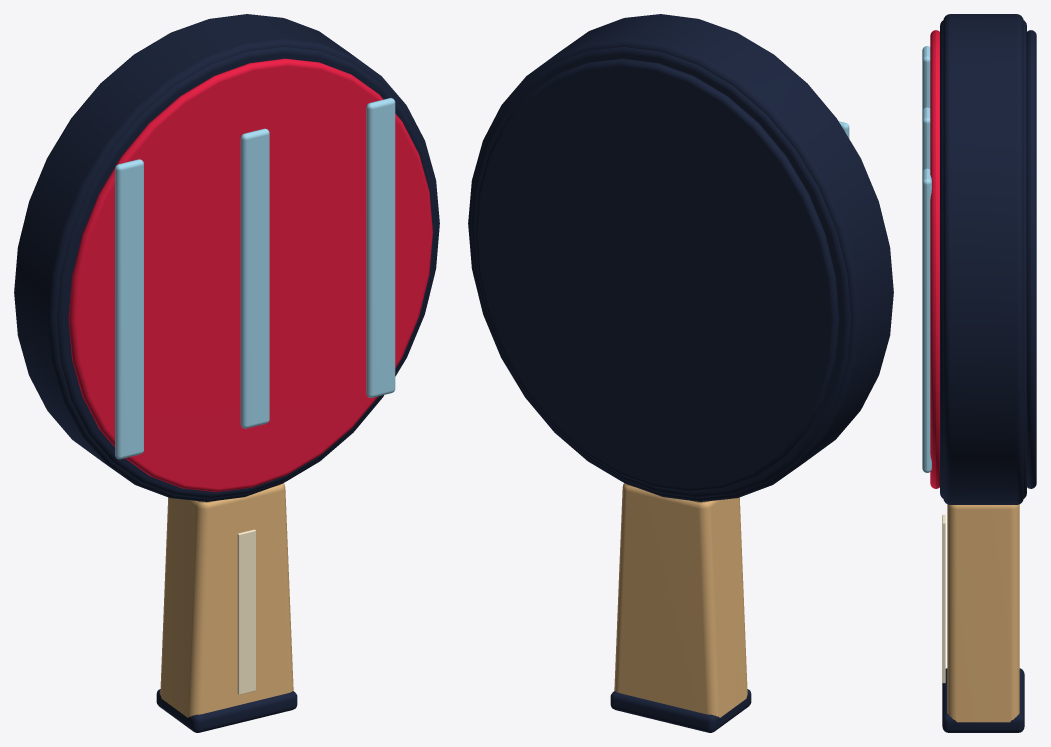
The model's file is Melee.glb.
3 views of the same model, side by side, from view 1: azimuth 30°, elevation 25°; view 2: azimuth 150°, elevation 25°; view 3: azimuth 270°, elevation 25° (orthographic).
Parts seen in each view (by area): view 1: FrontRubber, OuterRim, WoodHandle, RimLip, ImpactBand0, ImpactBand0.18, ImpactBand-0.18, HandleInlay, HandleButt; view 2: BackRubber, OuterRim, WoodHandle, RimLip, HandleButt; view 3: OuterRim, WoodHandle, BackRubber, FrontRubber, RimLip, ImpactBand0.18, HandleButt, HandleInlay, ImpactBand0, ImpactBand-0.18.
Part boxes in pixels (box(x1,y1,x2,y2)): FrontRubber: box(68, 58, 432, 492); OuterRim: box(14, 14, 439, 501); WoodHandle: box(160, 483, 293, 717); RimLip: box(57, 47, 437, 498); ImpactBand0: box(240, 128, 269, 428); ImpactBand0.18: box(366, 98, 395, 397); ImpactBand-0.18: box(115, 159, 143, 459); HandleInlay: box(237, 529, 255, 694); HandleButt: box(156, 689, 297, 732); BackRubber: box(475, 58, 839, 492); OuterRim: box(468, 14, 893, 501); WoodHandle: box(614, 483, 747, 717); RimLip: box(470, 47, 850, 498); HandleButt: box(610, 689, 751, 732); OuterRim: box(943, 14, 1023, 504); WoodHandle: box(947, 504, 1019, 722); BackRubber: box(1027, 30, 1036, 488); FrontRubber: box(930, 30, 939, 488); RimLip: box(940, 20, 1026, 498); ImpactBand0.18: box(922, 168, 931, 472); HandleButt: box(942, 668, 1024, 732); HandleInlay: box(942, 514, 945, 683); ImpactBand0: box(922, 107, 930, 171); ImpactBand-0.18: box(922, 46, 930, 110).
Bounding box in the file's own units: 0.56 × 0.9265 × 0.142.
